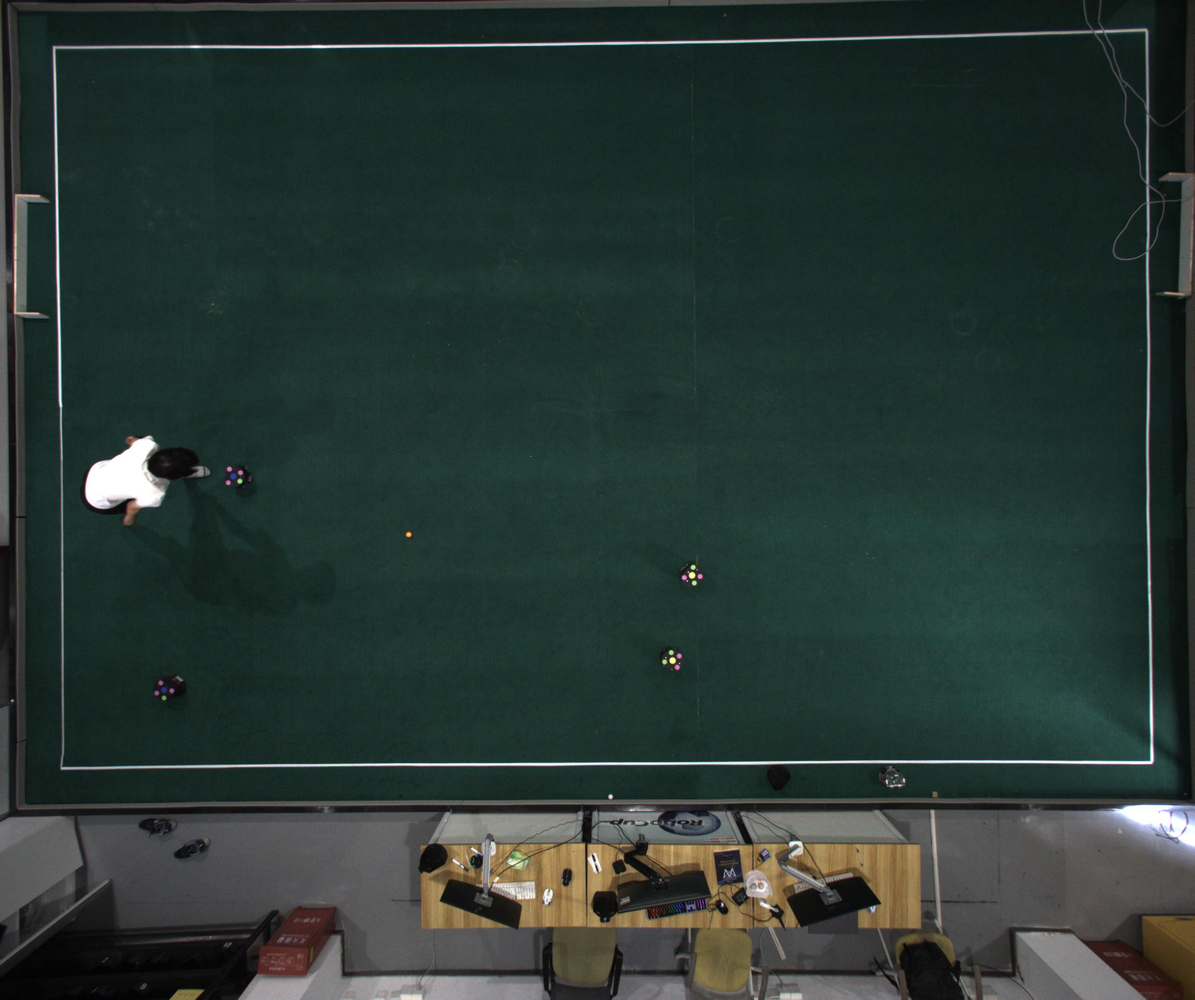ball: (406, 531, 411, 538)
blue_bot: (154, 678, 178, 702), (224, 465, 245, 488)
yellow_bot: (660, 647, 684, 672), (682, 564, 704, 588)
